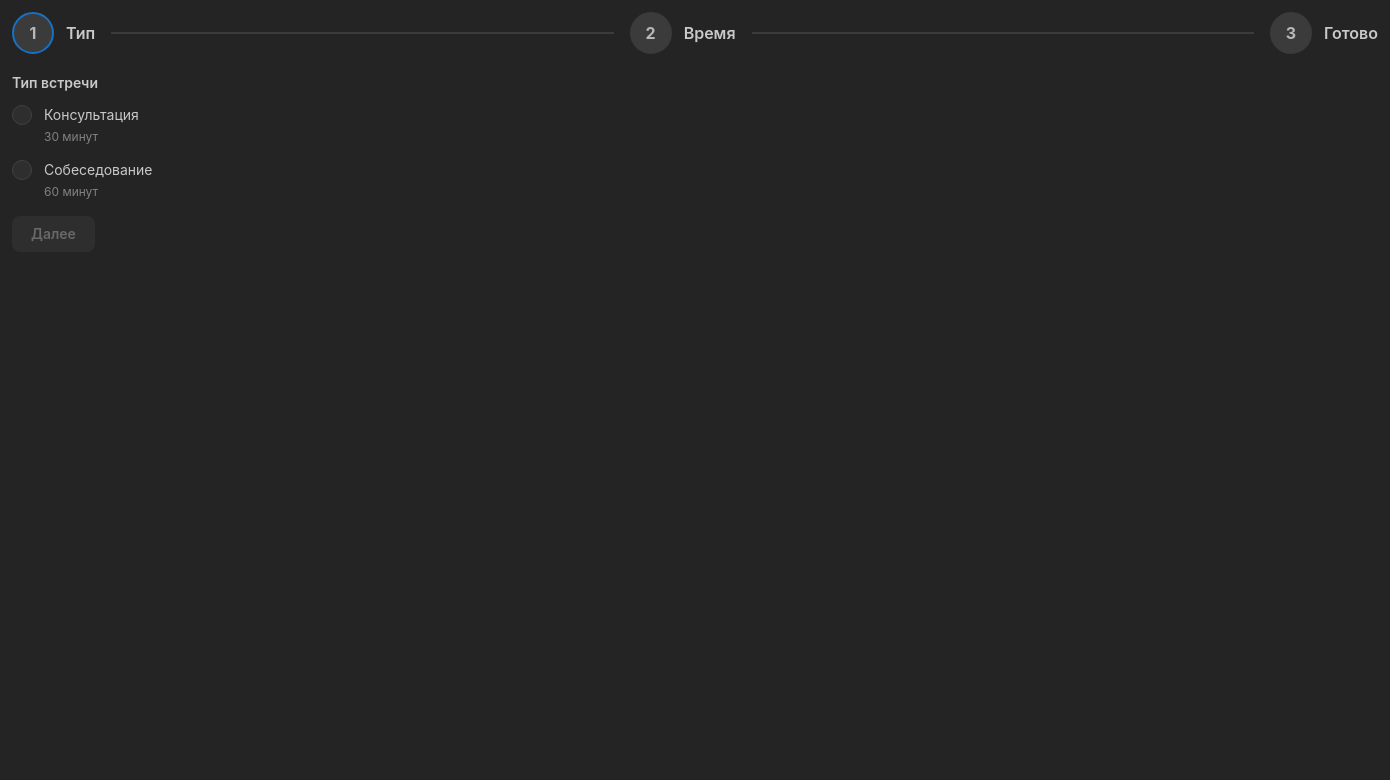
Test: гостевой вид › «Обновить» перечитывает записи и выключает занятый слот
Step 1. Click the radio button labelled "Консультация" → (22, 115), box [12,105,32,125]
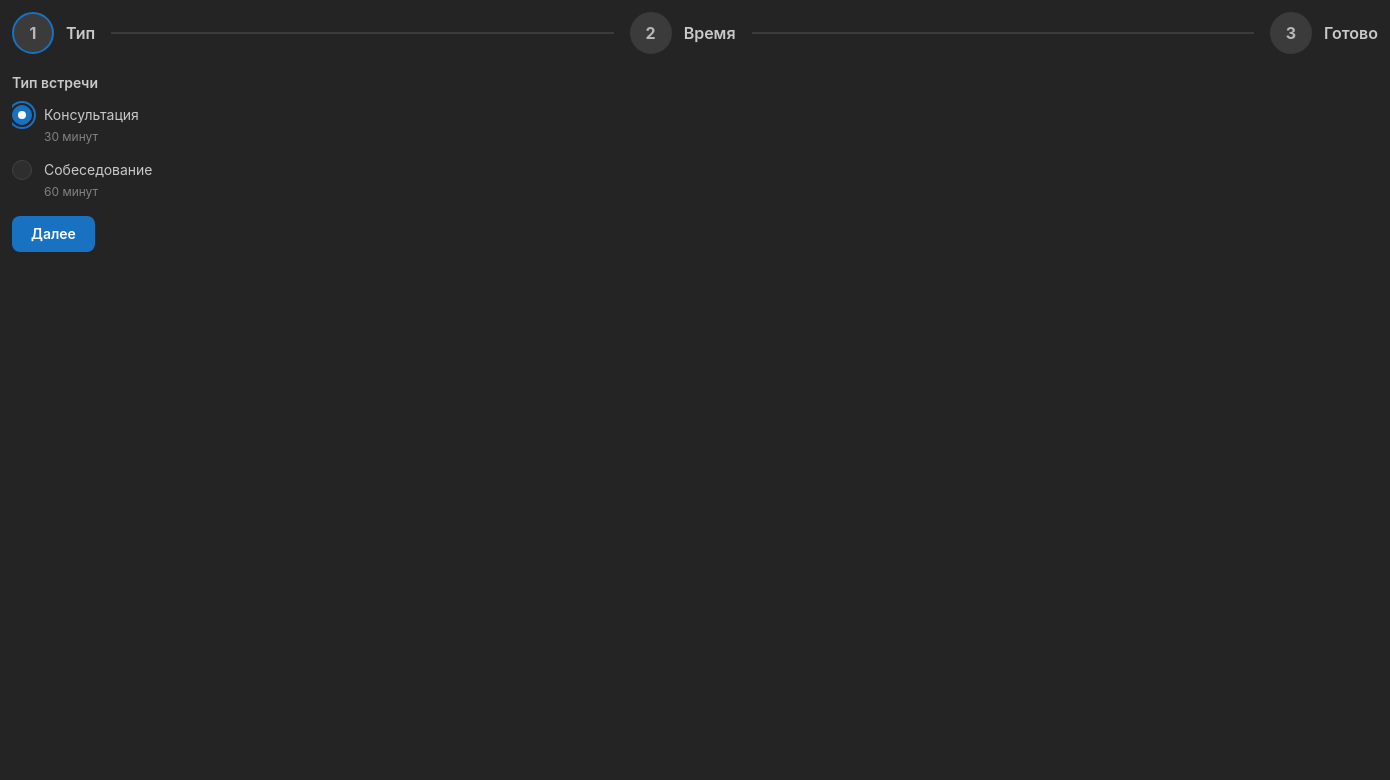
Step 2. Click the button "Далее" → (53, 234), box [12,216,95,252]
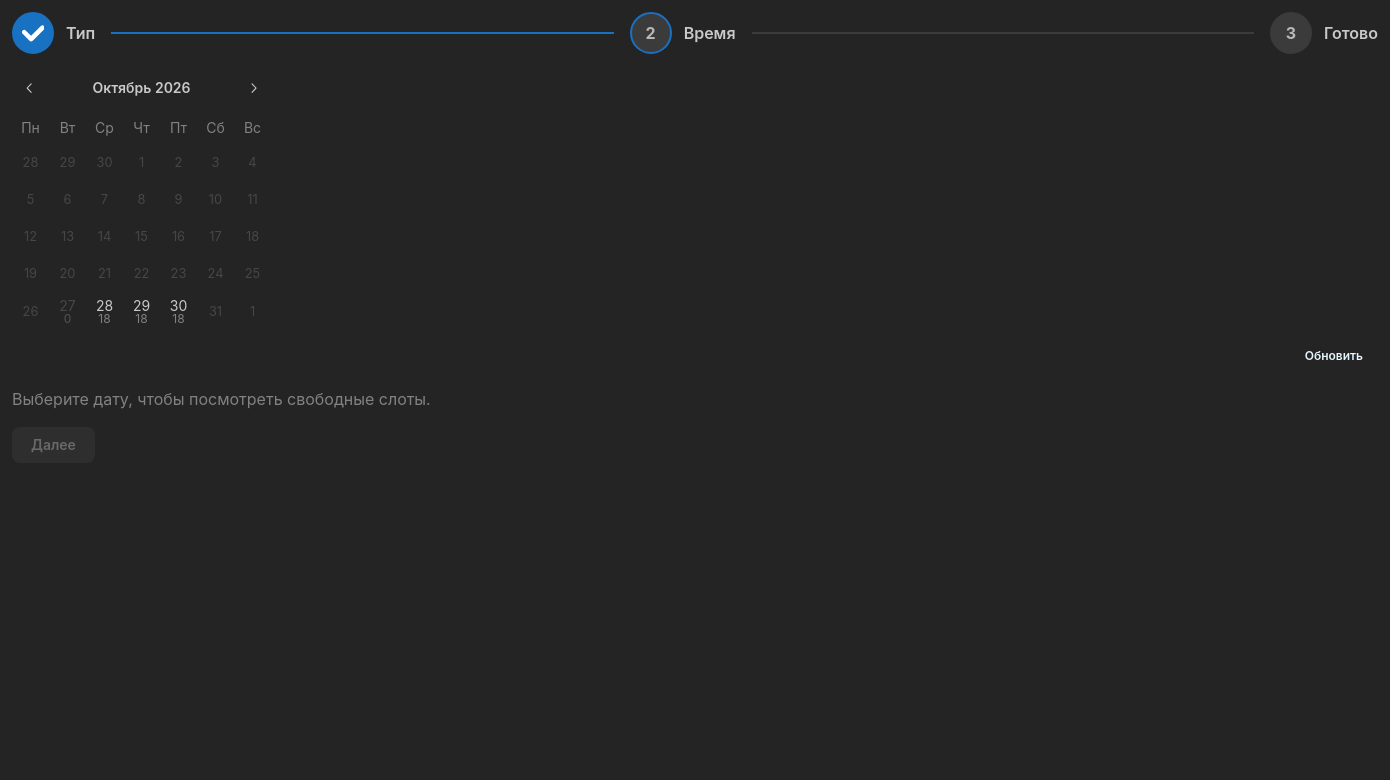
Step 3. Click the button "28 18" → (104, 312), box [86,294,122,330]
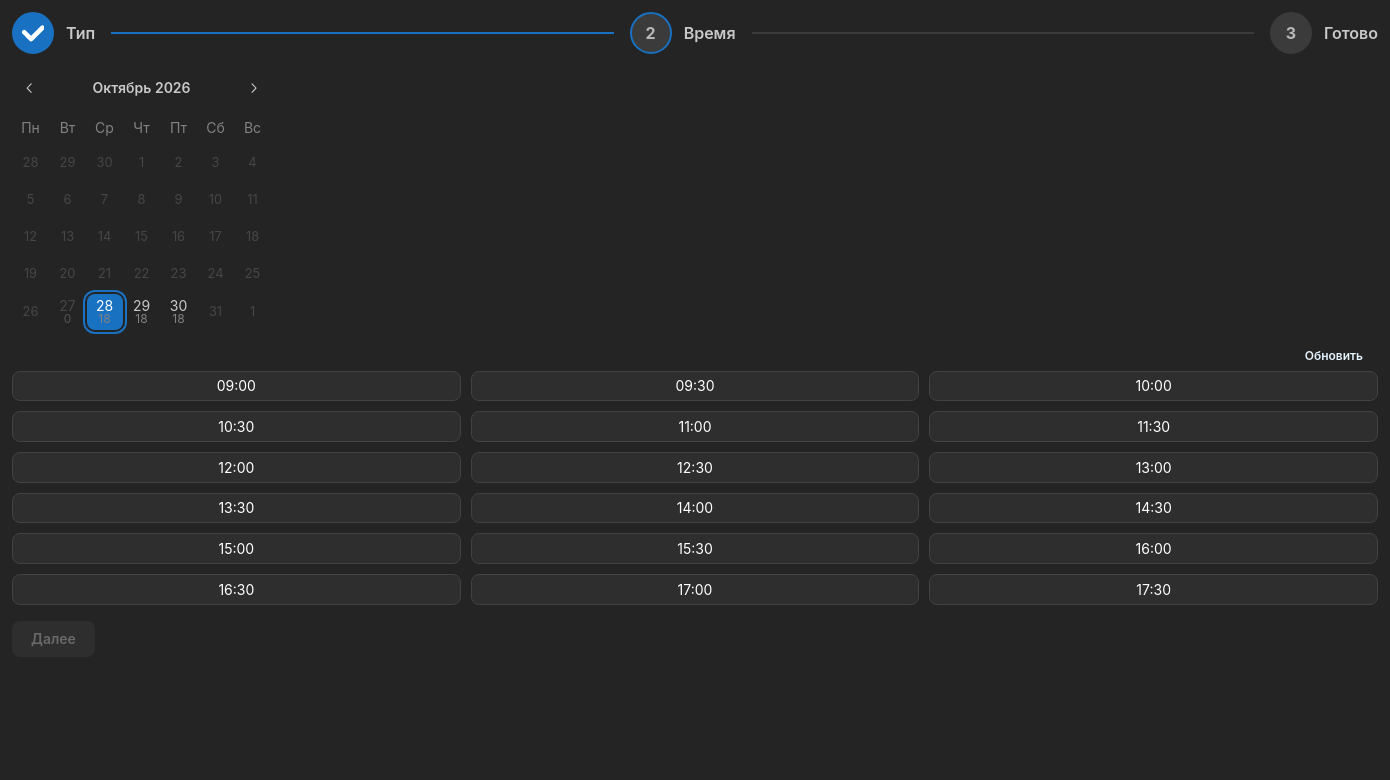
Expected: the button "11:00" is enabled, [471,411,919,442]
Step 4. Click the button "Обновить" → (1334, 356), box [1290,341,1378,371]
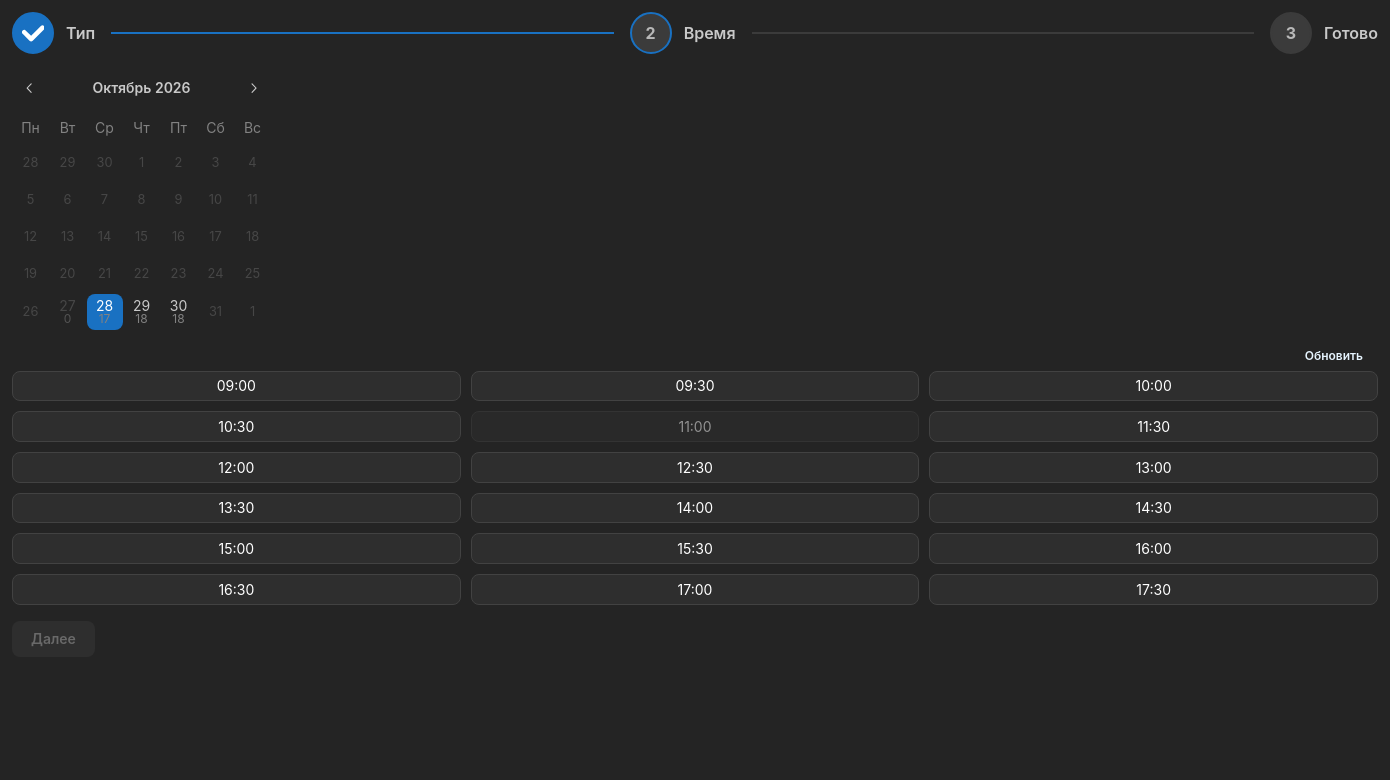
Expected: the button "11:00" is disabled, [471,411,919,442]
